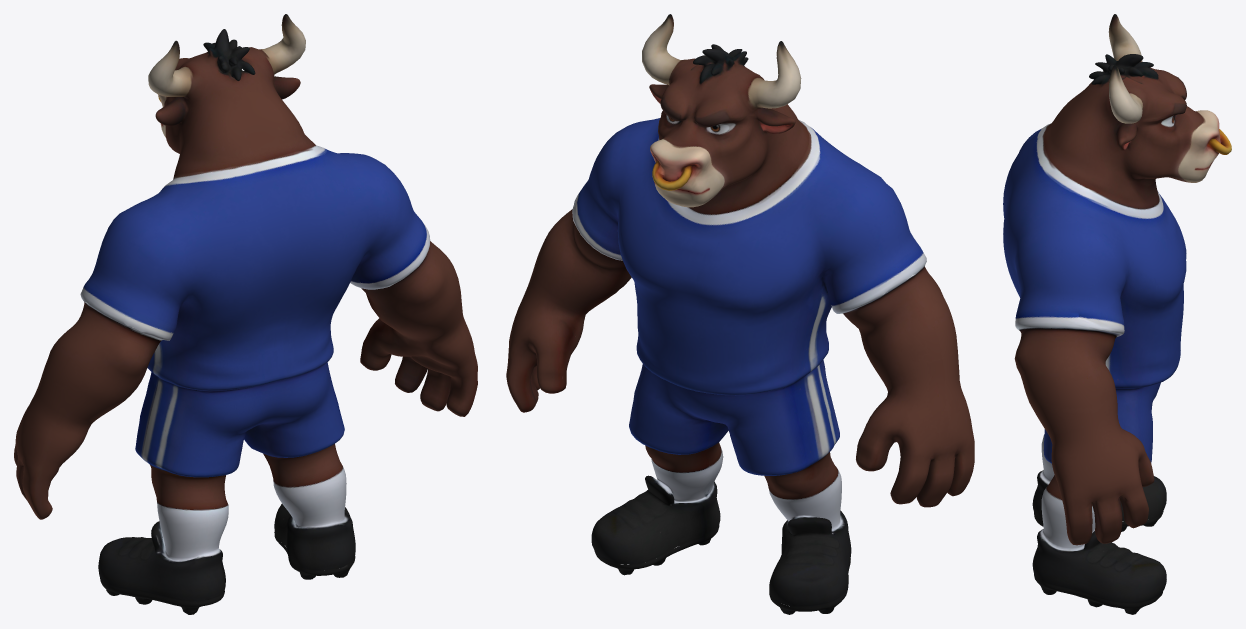
Rendered from toro.glb.
3 renders of one model, left to right at view 1: azimuth 30°, elevation 25°; view 2: azimuth 150°, elevation 25°; view 3: azimuth 270°, elevation 25°, orthographic. The views are drawn at different scales.
Parts seen in each view (by area): view 1: char; view 2: char; view 3: char.
Boxes of the visible parts, x1,y1,x2,y2 form: char: (14,14,477,614); char: (506,14,974,614); char: (1003,14,1231,614).
Size of the model in its own units: 1.46 by 1.7 by 0.6732.
Materials: 1 (1 with a texture image).
